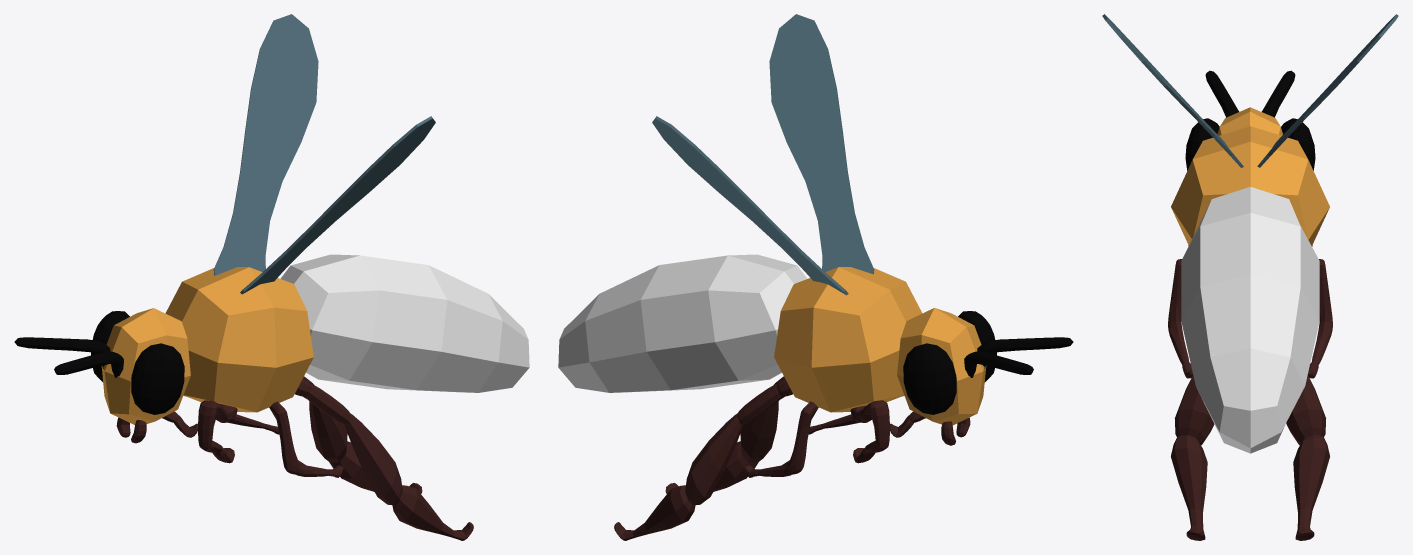
The model's file is Bee.glb.
The picture shows the model from 3 angles, left to right: view 1: azimuth 30°, elevation 25°; view 2: azimuth 150°, elevation 25°; view 3: azimuth 270°, elevation 25°; orthographic projection. The views are drawn at different scales.
Visible parts, largest first — view 1: Cube.002, Plane, Cube, Cube.005, Cube.001, Cube.006, Cube.007, Cube.003, Cube.004; view 2: Cube.002, Plane, Cube, Cube.005, Cube.001, Cube.006, Cube.007, Cube.003, Cube.004; view 3: Cube.002, Cube, Cube.005, Cube.004, Plane, Cube.006, Cube.007, Cube.001.
Part boxes in pixels (x1,y1,x2,y2): Cube.002: (280, 254, 529, 392); Plane: (213, 14, 435, 294); Cube: (165, 267, 313, 412); Cube.005: (295, 376, 473, 540); Cube.001: (101, 308, 190, 424); Cube.006: (91, 311, 184, 414); Cube.007: (14, 337, 123, 377); Cube.003: (162, 400, 237, 463); Cube.004: (228, 401, 343, 477); Cube.002: (558, 254, 807, 392); Plane: (652, 14, 874, 295); Cube: (774, 267, 922, 412); Cube.005: (614, 376, 792, 540); Cube.001: (897, 308, 986, 425); Cube.006: (903, 311, 996, 414); Cube.007: (964, 337, 1073, 377); Cube.003: (850, 400, 925, 463); Cube.004: (744, 401, 859, 477); Cube.002: (1181, 187, 1319, 453); Cube: (1171, 126, 1329, 245); Cube.005: (1171, 375, 1329, 540); Cube.004: (1168, 259, 1332, 378); Plane: (1102, 14, 1398, 167); Cube.006: (1185, 118, 1315, 170); Cube.007: (1205, 70, 1295, 117); Cube.001: (1217, 107, 1282, 135).
Size of the model in its own units: 3.83 by 3.5 by 1.94.
